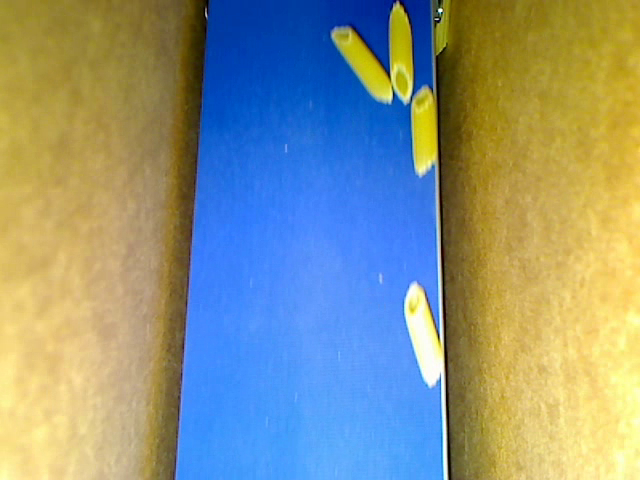penne: (327, 24, 396, 104), (402, 282, 444, 385), (408, 82, 439, 179), (387, 1, 415, 103), (432, 1, 453, 55)
